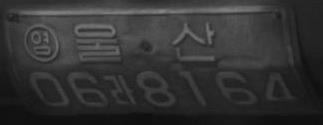0: (28, 70, 70, 108)
1: (177, 70, 210, 108)
4: (264, 69, 298, 106)
6: (213, 69, 258, 108), (70, 70, 108, 109)
8: (138, 70, 176, 108)
라: (108, 73, 138, 106)
영: (23, 22, 60, 62)
울산_D: (74, 20, 215, 63)
